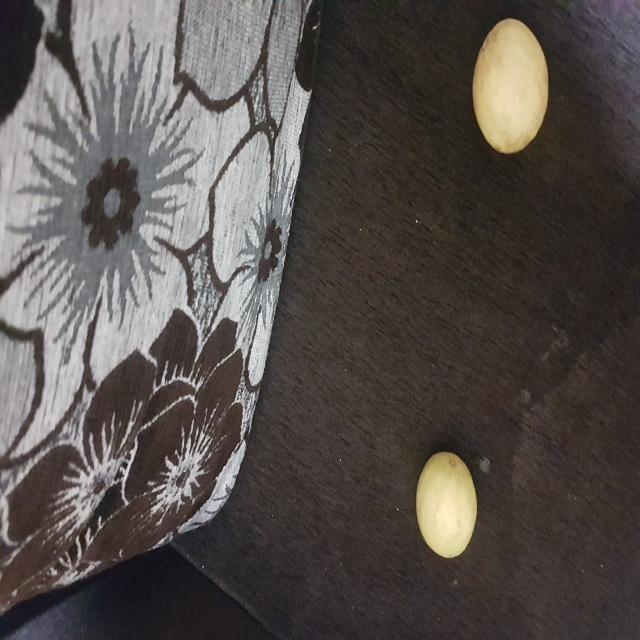lemon: (457, 12, 568, 165), (391, 445, 485, 564)
